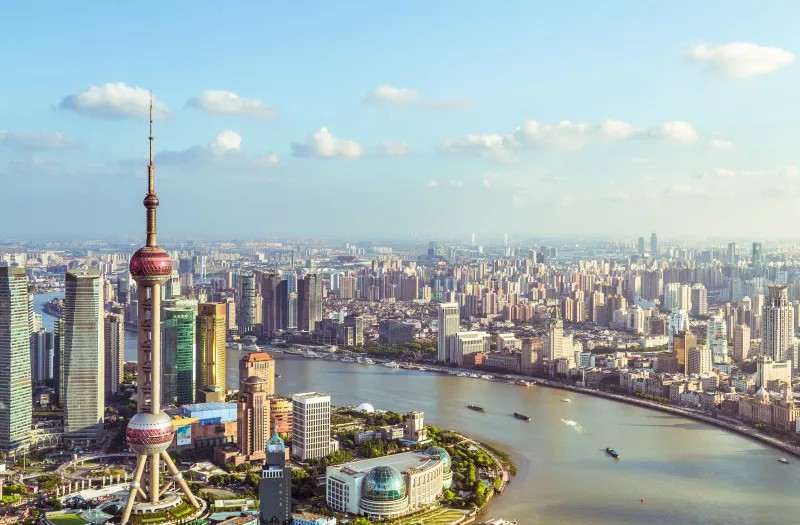Oriental: (119, 91, 201, 525)
